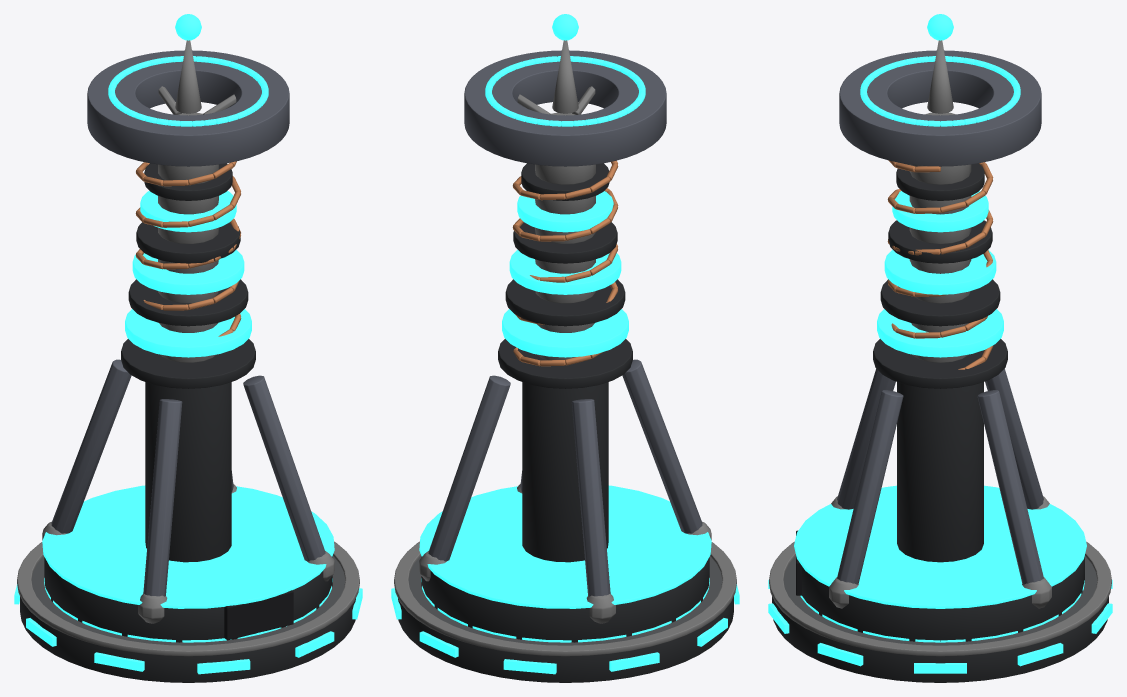
Rendered from Laser_Tesla.glb.
3 views of the same model, side by side, from view 1: azimuth 30°, elevation 25°; view 2: azimuth 150°, elevation 25°; view 3: azimuth 270°, elevation 25° (orthographic).
Visible parts, largest first — view 1: Laser_Tesla; view 2: Laser_Tesla; view 3: Laser_Tesla.
Boxes of the visible parts, <box> form: Laser_Tesla: <box>14,14,362,682</box>; Laser_Tesla: <box>391,14,739,682</box>; Laser_Tesla: <box>768,14,1112,682</box>.
Bounding box in the file's own units: 3.58 × 6.84 × 3.57.
